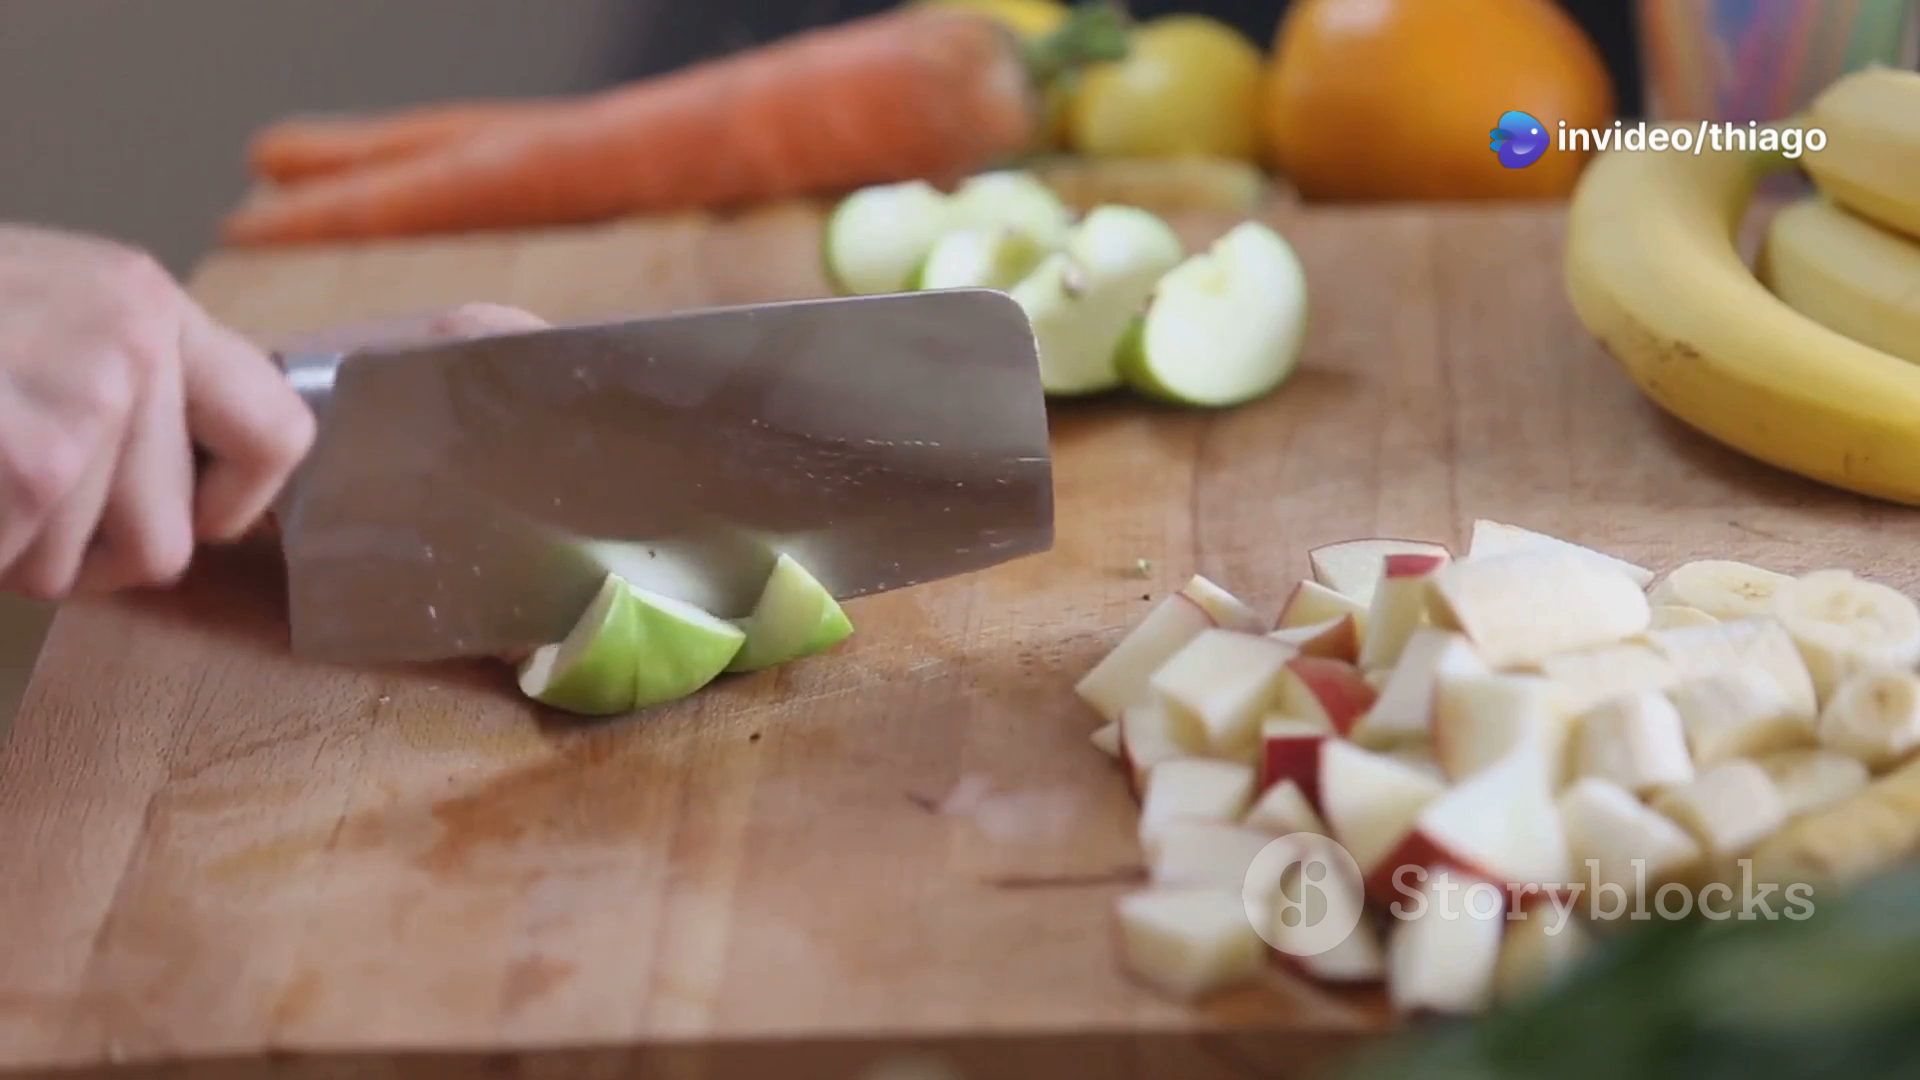cortante: (282, 287, 1055, 665)
